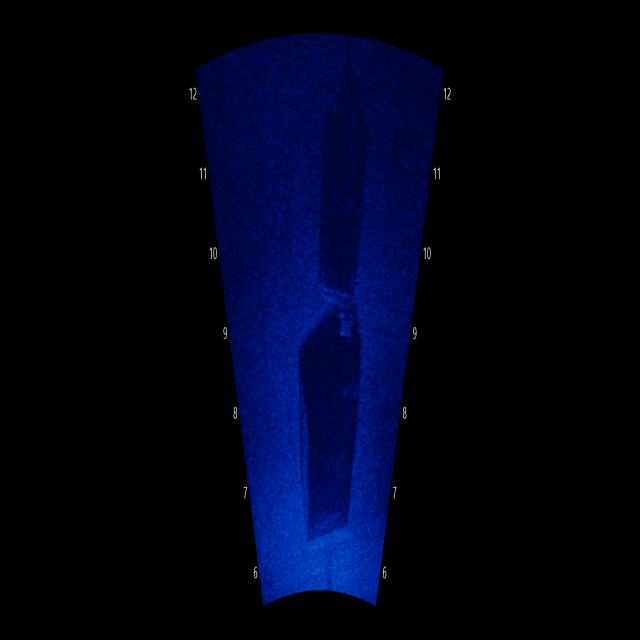square: (293, 280, 370, 548), (316, 103, 372, 298)
